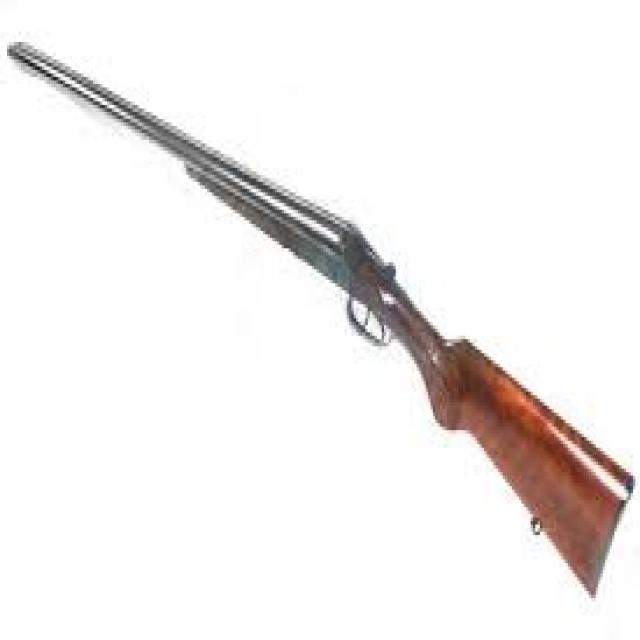rifle: (1, 34, 640, 616)
